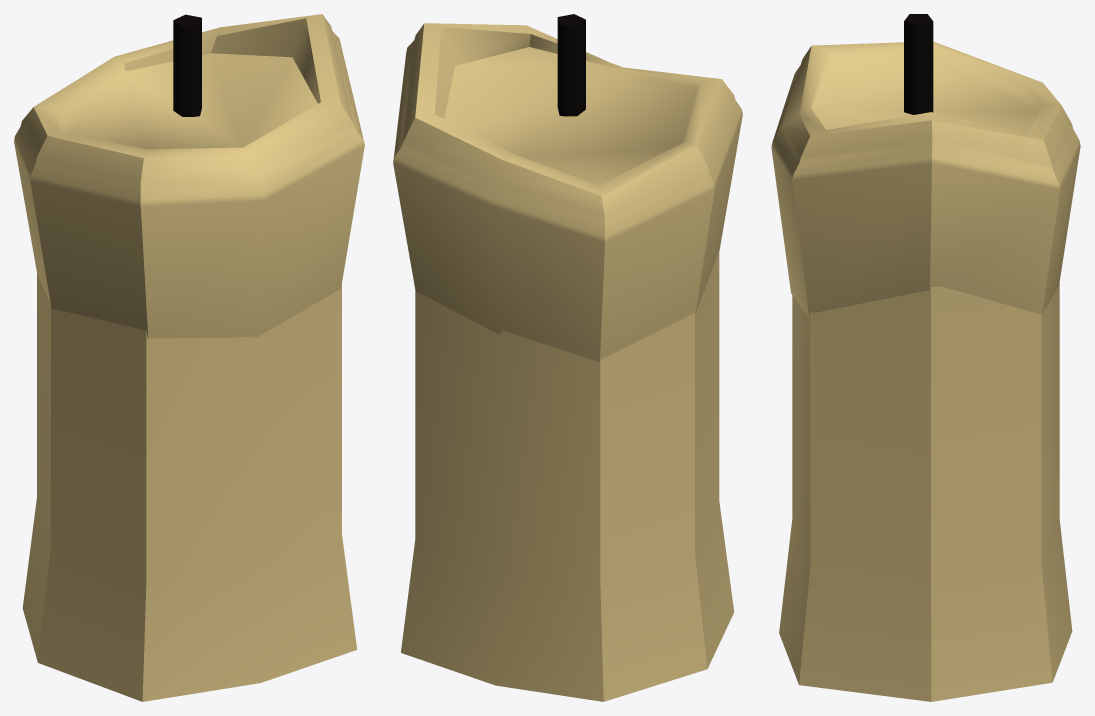
File: SINGLE CANDLE.FBX
The picture shows the model from 3 angles, left to right: view 1: azimuth 30°, elevation 25°; view 2: azimuth 150°, elevation 25°; view 3: azimuth 270°, elevation 25°; orthographic projection.
Parts seen in each view (by area): view 1: Line006, Cylinder009; view 2: Line006, Cylinder009; view 3: Line006, Cylinder009.
Part boxes in pixels (<box>): Line006: <box>14,14,364,701</box>; Cylinder009: <box>173,14,201,116</box>; Line006: <box>393,23,742,701</box>; Cylinder009: <box>557,14,585,116</box>; Line006: <box>771,41,1080,701</box>; Cylinder009: <box>904,14,933,114</box>.
Size of the model in its own units: 30.3 by 57.15 by 26.13.
